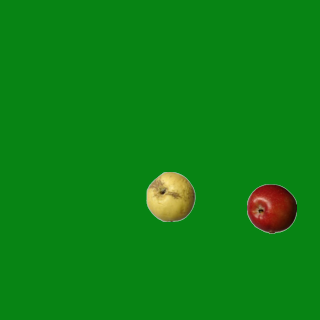Apple Braeburn: (246, 183, 296, 233)
Apple Golden 1: (145, 171, 195, 221)
